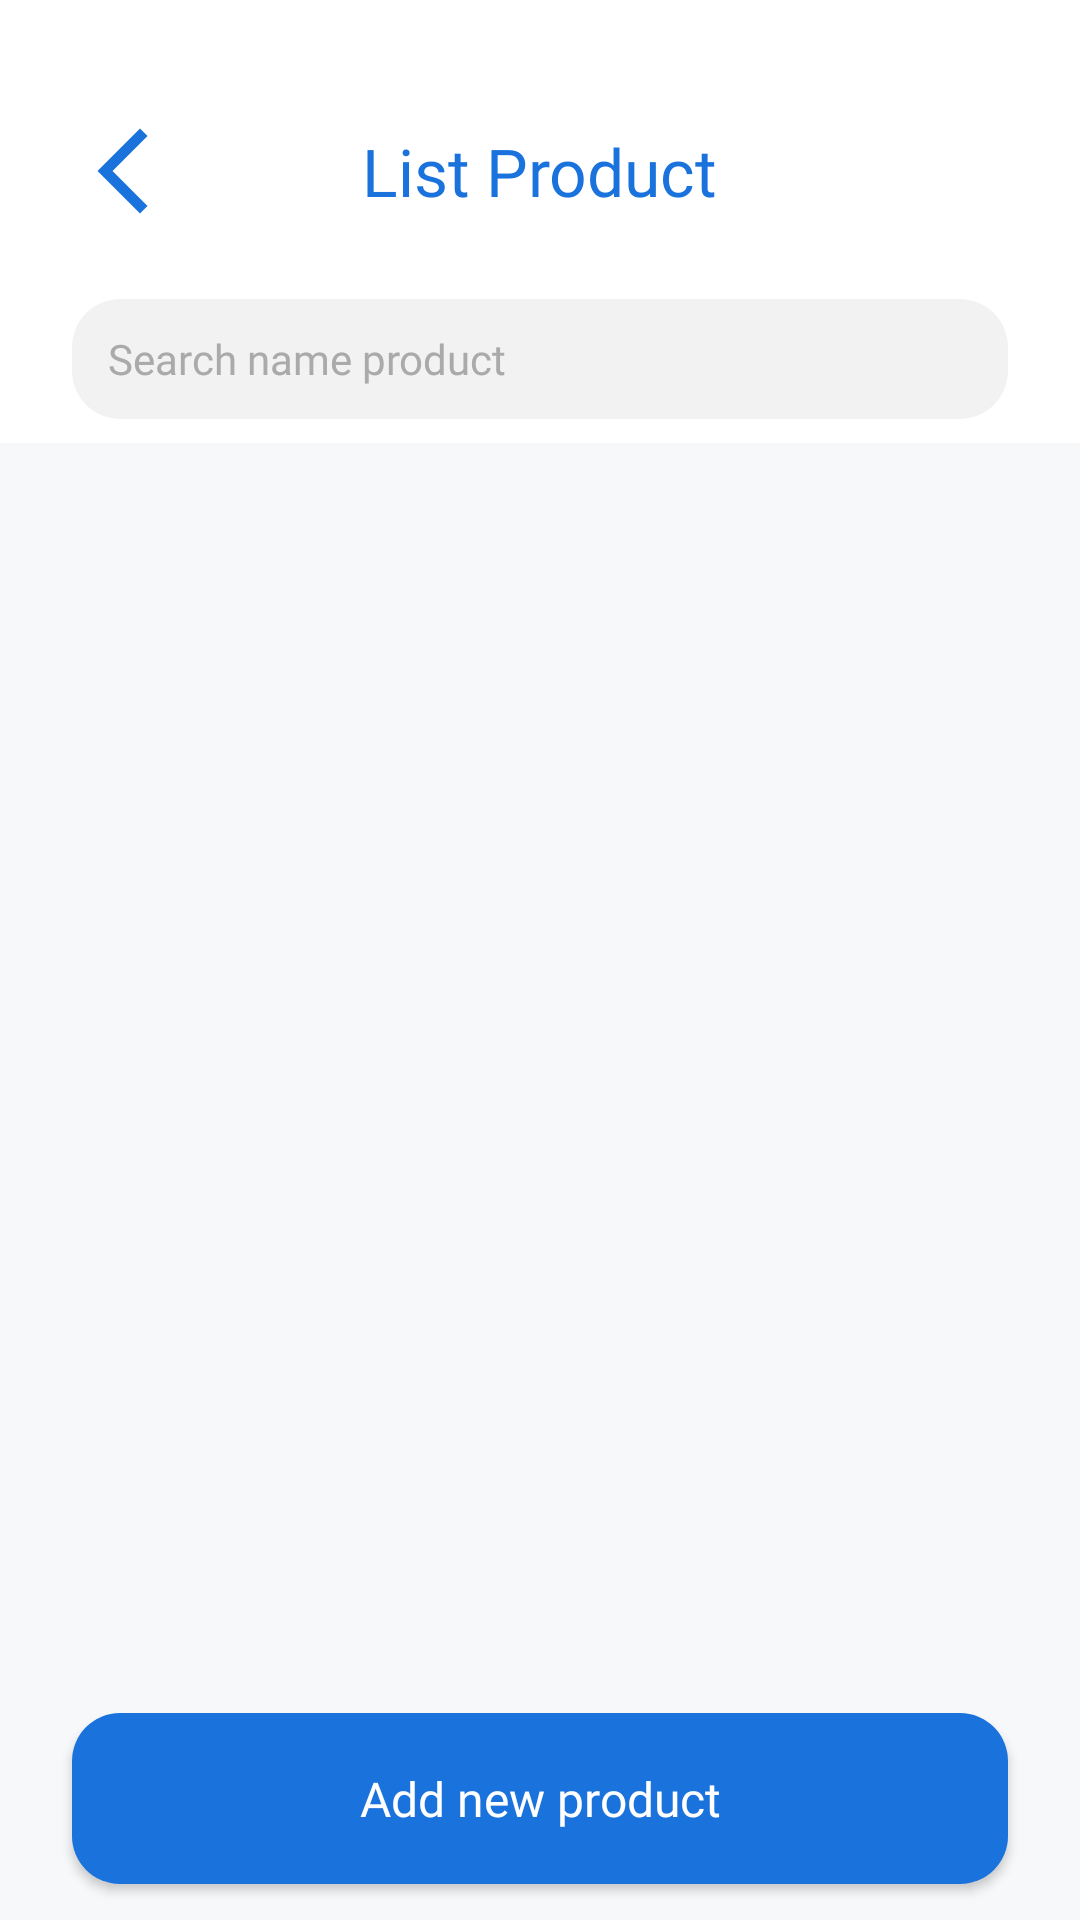

Locate icon controls on the screen. Image size 1080px×1920px, boxes as (x1, y1, x2, y2).
arrow back: (97, 128, 148, 214)
